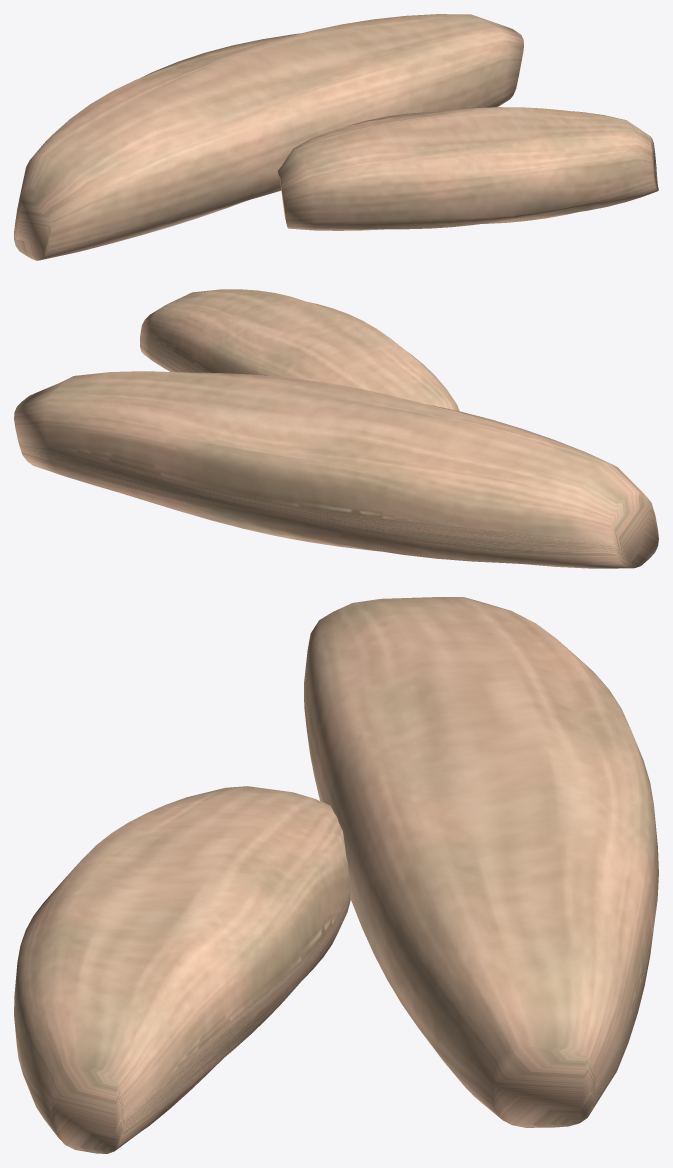
The model's file is crocodile_meat_raw.glb.
3 views of the same model, one above another, from view 1: azimuth 30°, elevation 25°; view 2: azimuth 150°, elevation 25°; view 3: azimuth 270°, elevation 25° (orthographic). The views are drawn at different scales.
Parts seen in each view (by area): view 1: crocodile_meat_raw; view 2: crocodile_meat_raw; view 3: crocodile_meat_raw.
Boxes of the visible parts, x1,y1,x2,y2 form: crocodile_meat_raw: (14, 14, 658, 260); crocodile_meat_raw: (14, 289, 658, 568); crocodile_meat_raw: (14, 597, 658, 1153).
Bounding box in the file's own units: 0.1473 × 0.0268 × 0.0861.
Materials: 1 (1 with a texture image).
